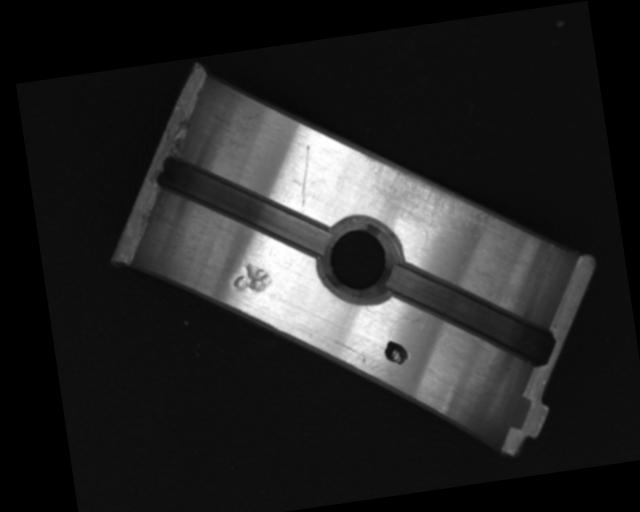blot: (382, 337, 410, 368)
bruise: (228, 257, 273, 296)
gap: (153, 135, 331, 274), (385, 245, 557, 385)
hole: (310, 212, 408, 311)
nick: (290, 145, 319, 214)
scratch: (356, 131, 506, 259)
